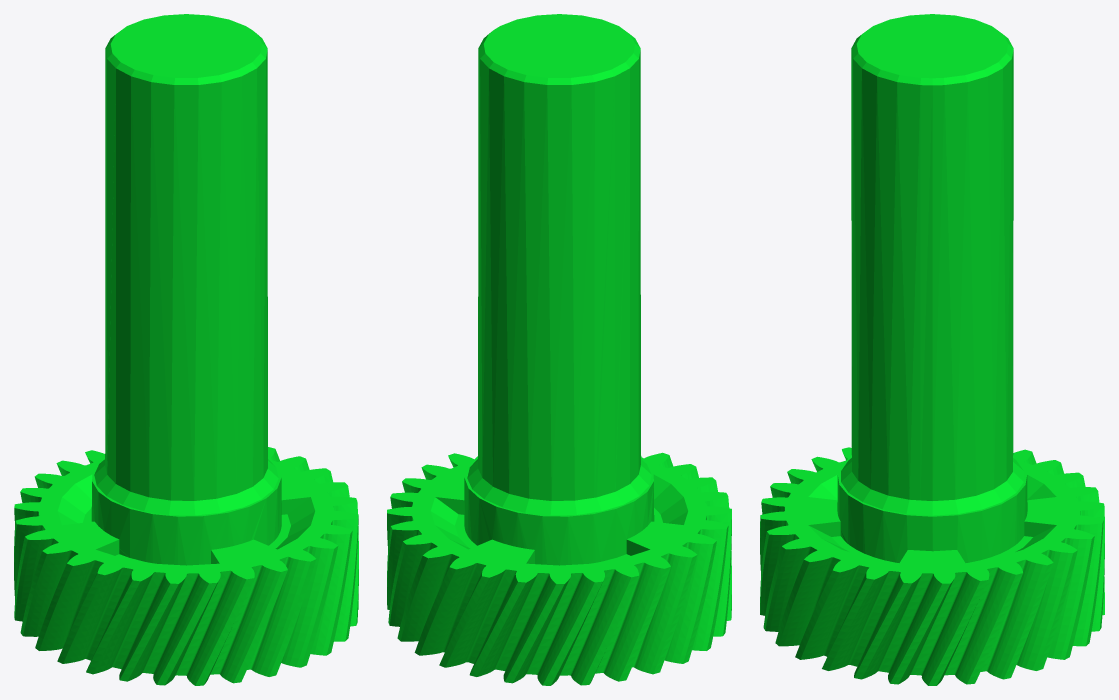
The model's file is largeGear_v4.dae.
3 views of the same model, side by side, from view 1: azimuth 30°, elevation 25°; view 2: azimuth 150°, elevation 25°; view 3: azimuth 270°, elevation 25° (orthographic).
Parts seen in each view (by area): view 1: largeGear_v4; view 2: largeGear_v4; view 3: largeGear_v4.
Boxes of the visible parts, x1,y1,x2,y2 form: largeGear_v4: (14, 14, 358, 685); largeGear_v4: (387, 14, 731, 685); largeGear_v4: (760, 14, 1104, 685).
Size of the model in its own units: 0.0635 by 0.0635 by 0.1152.
